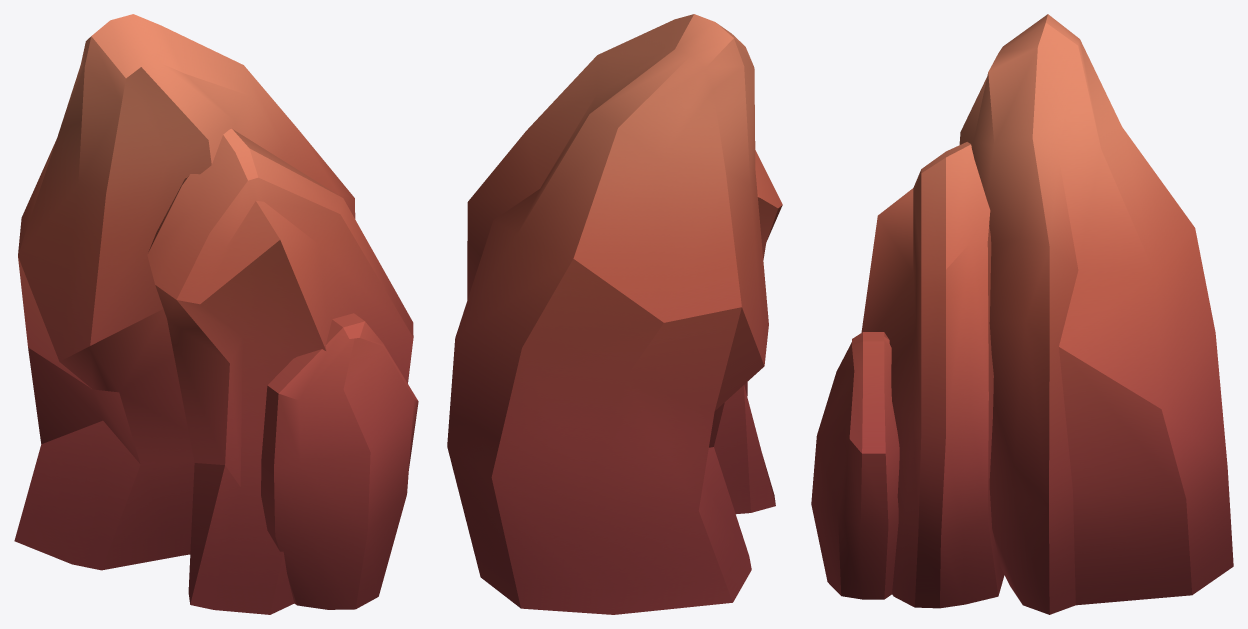
File: Rocks_V05.fbx
3 views of the same model, side by side, from view 1: azimuth 30°, elevation 25°; view 2: azimuth 150°, elevation 25°; view 3: azimuth 270°, elevation 25° (orthographic). The views are drawn at different scales.
Parts seen in each view (by area): view 1: SM_Rock_V05_C01_01; view 2: SM_Rock_V05_C01_01; view 3: SM_Rock_V05_C01_01.
Part boxes in pixels (<box>): SM_Rock_V05_C01_01: <box>14,14,418,614</box>; SM_Rock_V05_C01_01: <box>447,14,782,614</box>; SM_Rock_V05_C01_01: <box>811,14,1233,614</box>.
Bounding box in the file's own units: 459 × 764 × 574.
